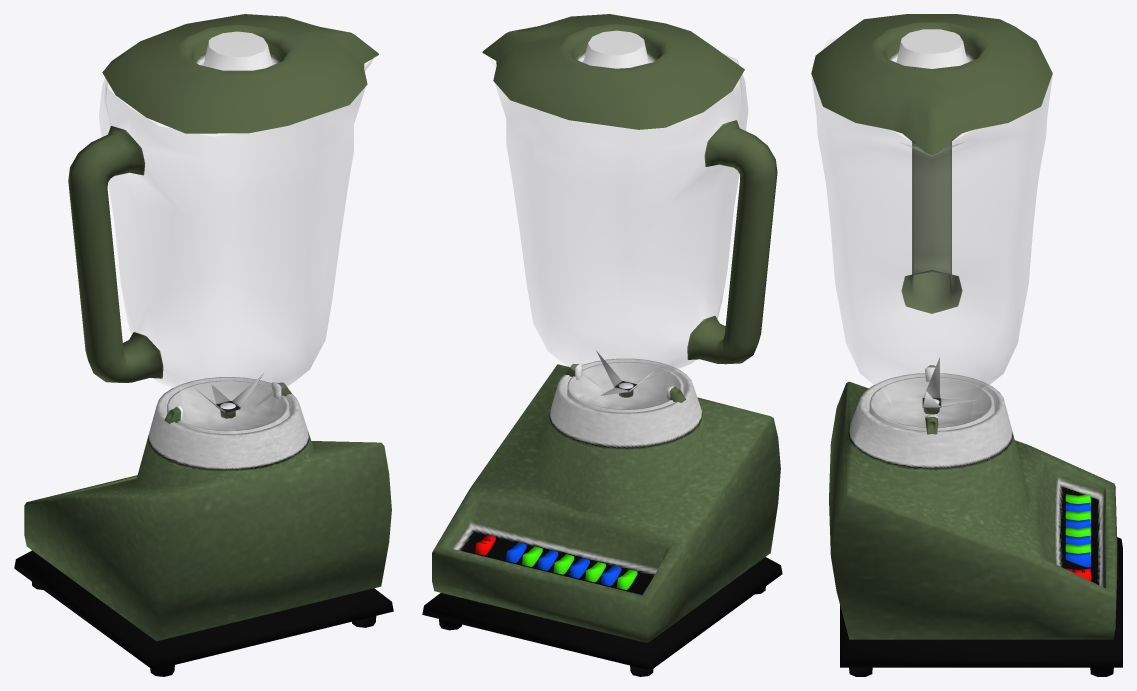
The model's file is blender.glb.
3 renders of one model, left to right at view 1: azimuth 30°, elevation 25°; view 2: azimuth 150°, elevation 25°; view 3: azimuth 270°, elevation 25°, orthographic. The views are drawn at different scales.
Parts seen in each view (by area): view 1: blender, blender.002, blender.001, blender.008; view 2: blender, blender.002, blender.001, blender.008; view 3: blender, blender.002, blender.001, blender.008.
Boxes of the visible parts, <box> form: blender: <box>14,377,393,676</box>; blender.002: <box>68,59,372,430</box>; blender.001: <box>102,14,378,133</box>; blender.008: <box>192,372,264,418</box>; blender: <box>422,358,782,676</box>; blender.002: <box>488,55,777,408</box>; blender.001: <box>482,14,744,129</box>; blender.008: <box>596,350,653,397</box>; blender: <box>829,365,1122,676</box>; blender.002: <box>811,38,1052,424</box>; blender.001: <box>811,14,1052,154</box>; blender.008: <box>922,357,976,414</box>.
Size of the model in its own units: 0.575 by 1.03 by 0.4953.
2 materials, 1 textured.
